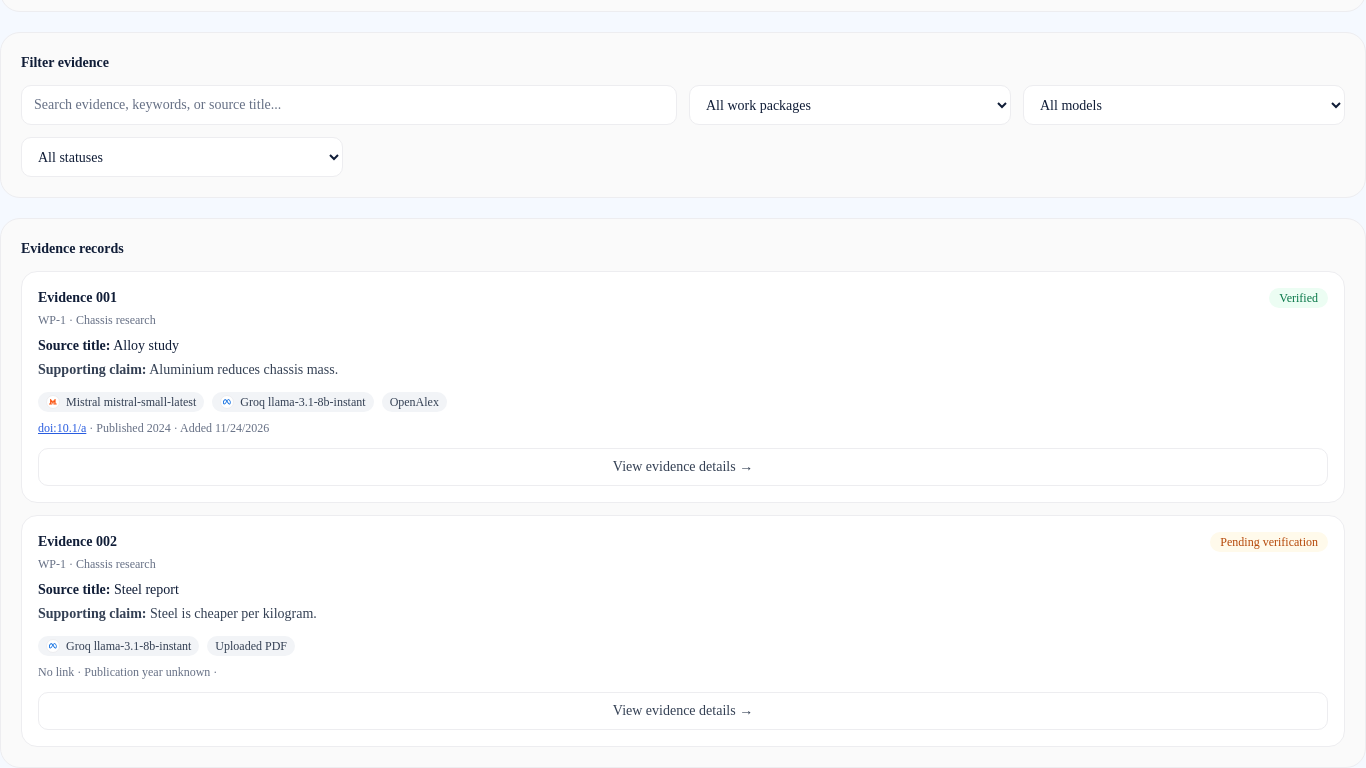
Scenario: Evidence Library › opens the details with the judge statement and the cited passage
(page scrolled)
Click the button "View evidence details →" below "Evidence 001" at (683, 467), box [38,448,1328,486]
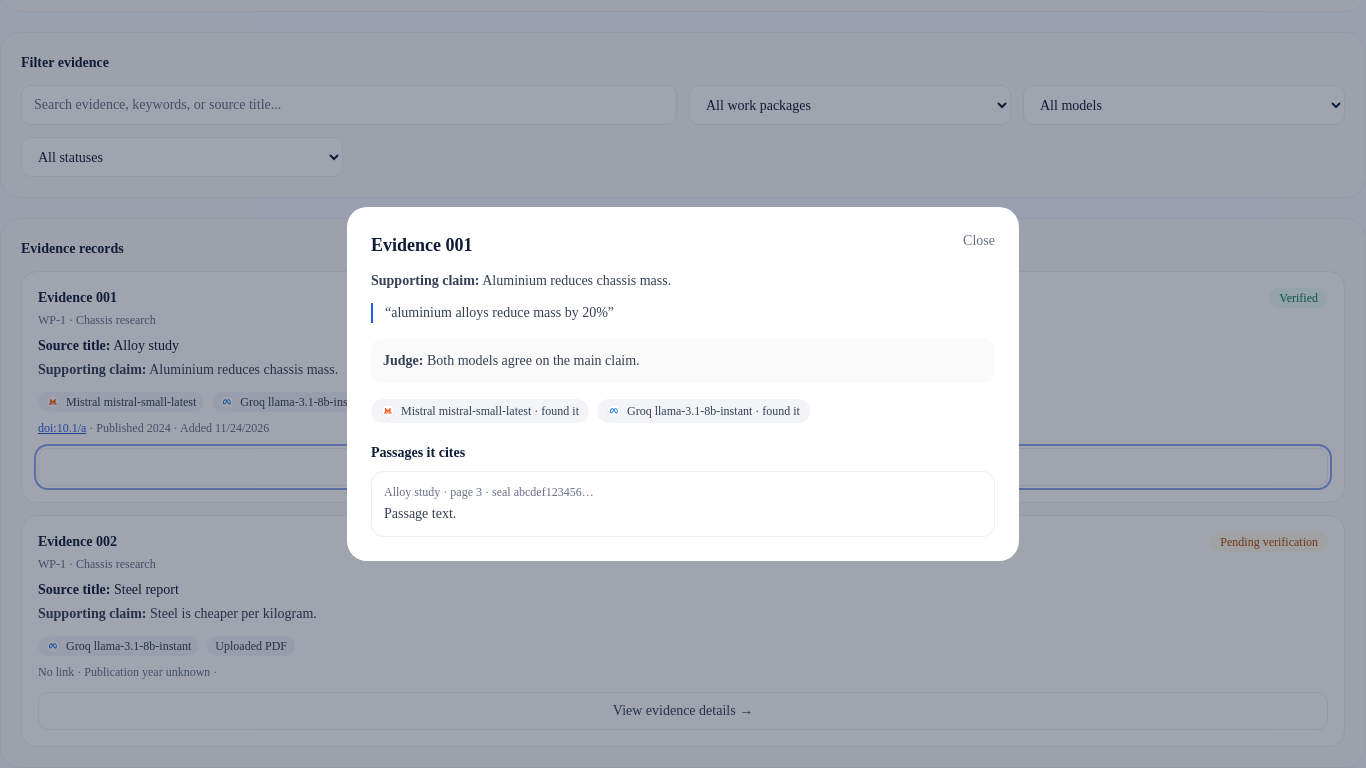
Check: the text "Passage text." is shown, box [384,506,456,521]
Check: the text "Judge: Both models agree on the main claim." is shown, box [371,339,995,383]
